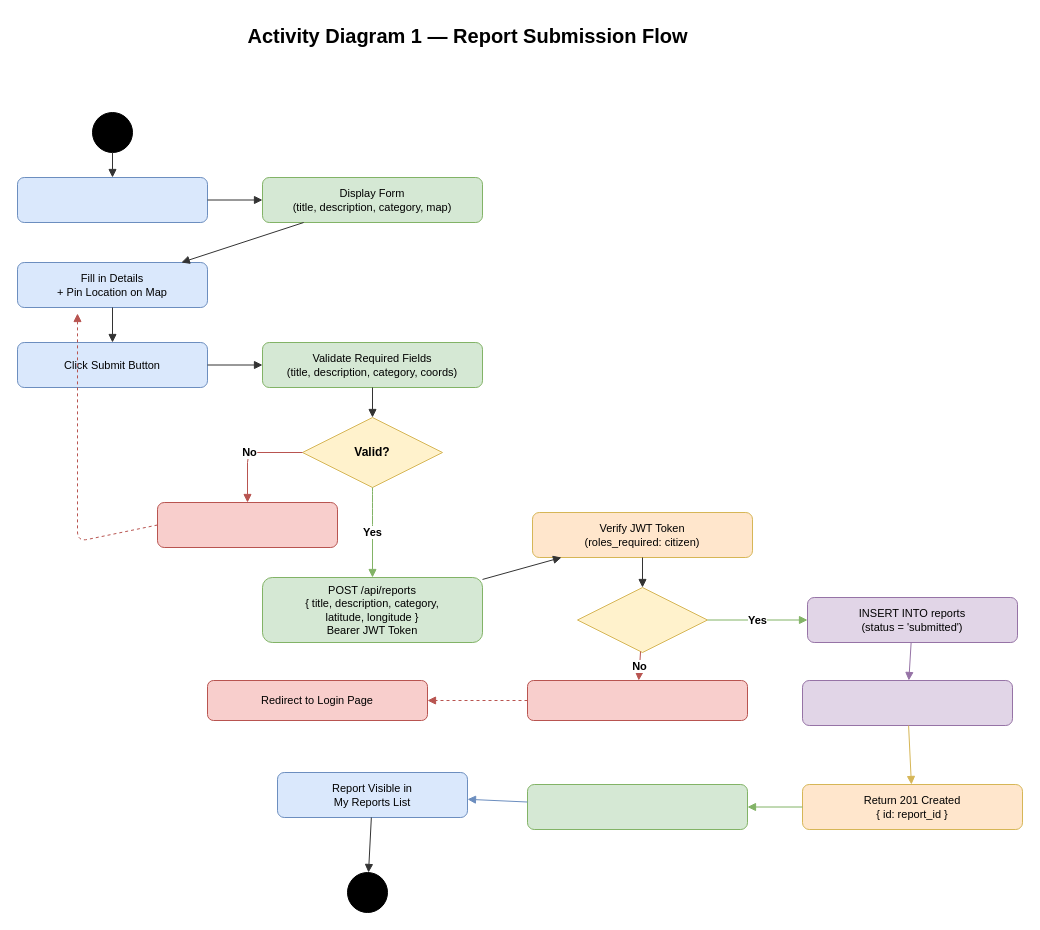
This 1040x930 diagram has some shape labels left out. Each missing label, with the centre of its shape:
Display Field Error Messages: the point at 247,525
INSERT INTO report_activity (action = 'report_created'): the point at 907,703
JWT Valid?: the point at 642,619
Open Submit Report Page: the point at 112,199
Return 401 Unauthorized: the point at 637,700
Show Success Toast Navigate to My Reports: the point at 637,807
